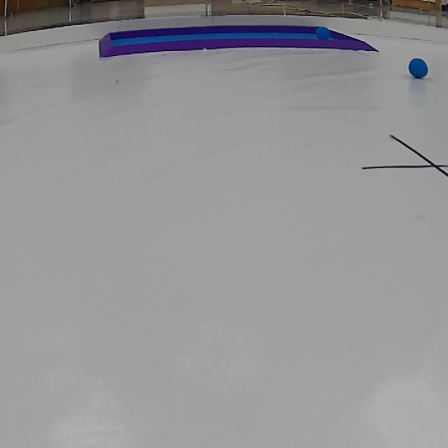blue: (405, 56, 430, 77), (315, 24, 334, 40)
blue_aim: (93, 25, 380, 57)
